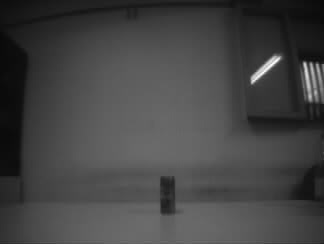Tin can: (158, 174, 175, 214)
